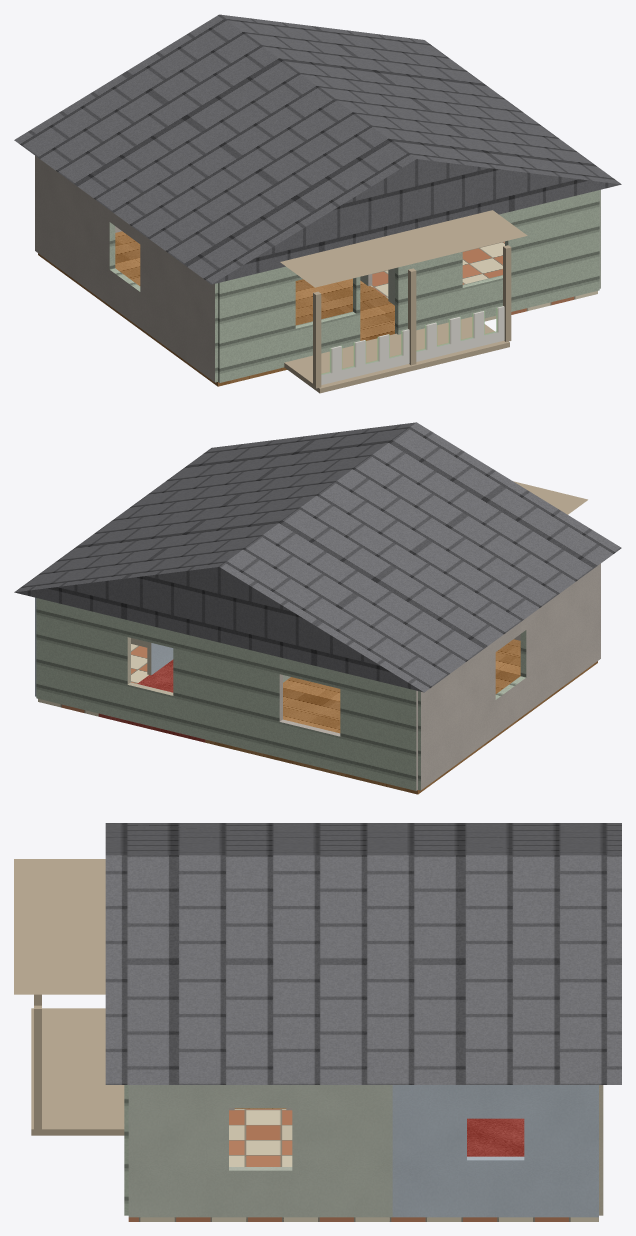
The model's file is house2.glb.
3 renders of one model, top to bottom at view 1: azimuth 30°, elevation 25°; view 2: azimuth 150°, elevation 25°; view 3: azimuth 270°, elevation 25°, orthographic. The views are drawn at different scales.
Visible parts, largest first — view 1: house2_277_structure-col; view 2: house2_277_structure-col; view 3: house2_277_structure-col.
Boxes of the visible parts, x1=… form: house2_277_structure-col: x1=14, y1=14, x2=621, y2=393; house2_277_structure-col: x1=14, y1=422, x2=621, y2=794; house2_277_structure-col: x1=14, y1=823, x2=621, y2=1221.
Size of the model in its own units: 10.8 by 4.72 by 10.6.
Materials: 11 (10 with a texture image).
